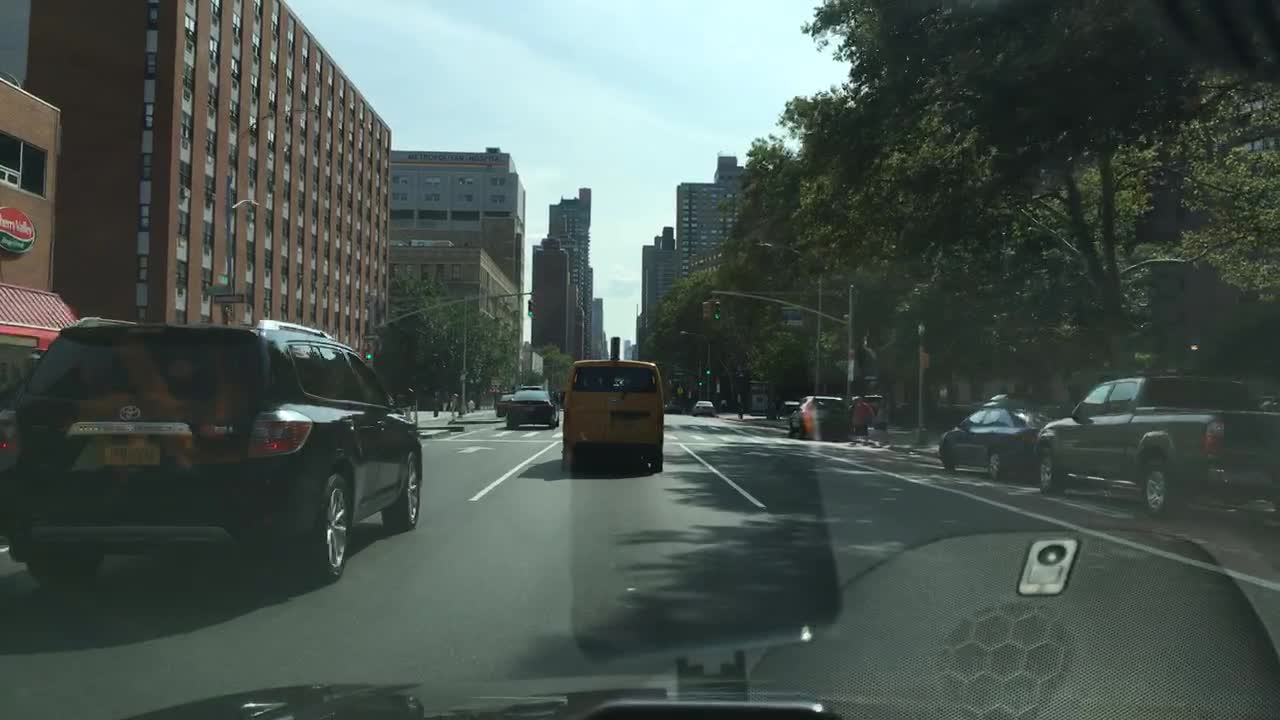car: (0, 315, 423, 585), (937, 391, 1073, 481), (561, 358, 665, 471), (786, 394, 850, 438), (506, 383, 560, 429), (496, 389, 516, 418), (690, 399, 715, 417), (663, 398, 683, 414), (715, 381, 719, 392)
person: (849, 396, 874, 444), (874, 399, 894, 450), (433, 389, 440, 417), (442, 390, 449, 410), (469, 397, 475, 413)
traffic light: (701, 300, 711, 319), (363, 343, 373, 361), (713, 298, 720, 321), (526, 298, 532, 317), (698, 378, 704, 386), (705, 368, 711, 375)
traffic sign: (780, 305, 803, 325), (214, 293, 244, 303), (922, 352, 929, 368), (677, 386, 683, 393)
truck: (1029, 373, 1278, 511)
